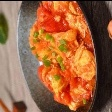fanqiechaojidan: (27, 0, 99, 112)
